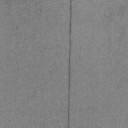surface scratch: (67, 0, 73, 128)
